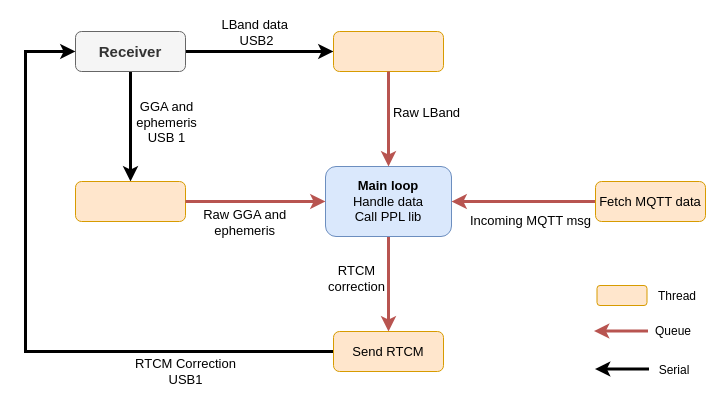
Image size: 724x409. Some labels were removed from this diagram. Each missing label, with the centre of its shape:
Fetch GGA and ephemeris: pixel 130 201
Fetch LBand data: pixel 388 51
